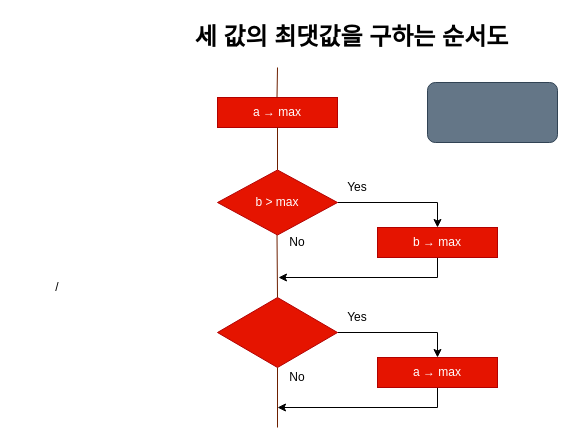
Image size: 575x446. Some labels were removed from this diagram. Each missing label, with the centre of its shape:
"c > max" belongs at pixel 277 332.
"max = a; if (b > max) max = b; if (c > max) max = c;" belongs at pixel 492 112.
